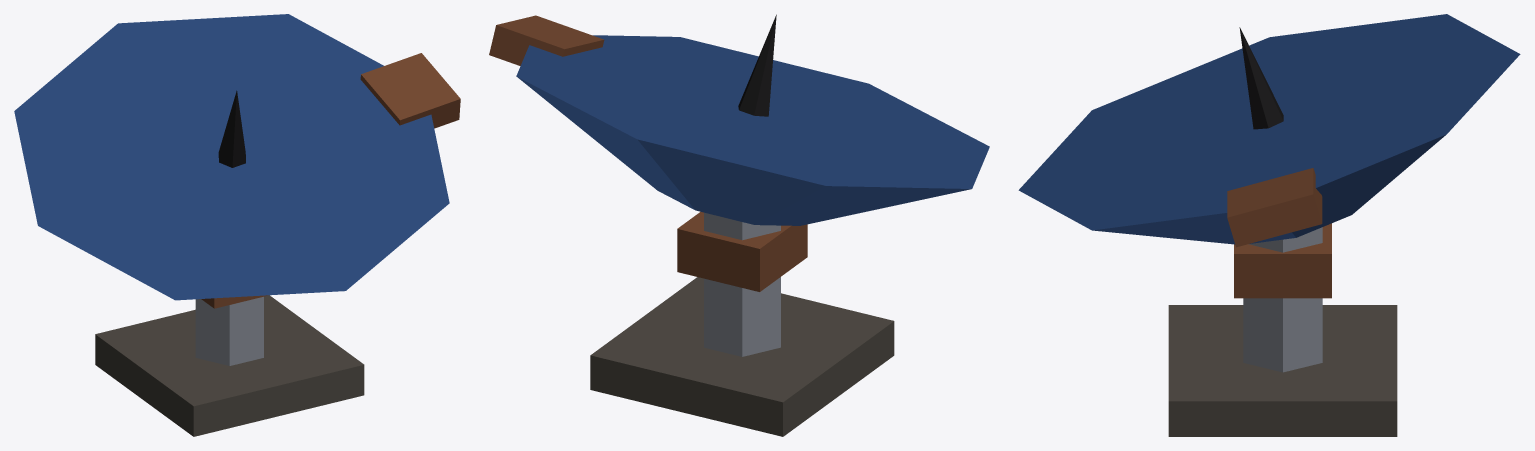
Rendered from salvage_dish.glb.
3 renders of one model, left to right at view 1: azimuth 30°, elevation 25°; view 2: azimuth 150°, elevation 25°; view 3: azimuth 270°, elevation 25°, orthographic. The views are drawn at different scales.
Bounding box in the file's own units: 0.3338 × 0.2405 × 0.3076.
